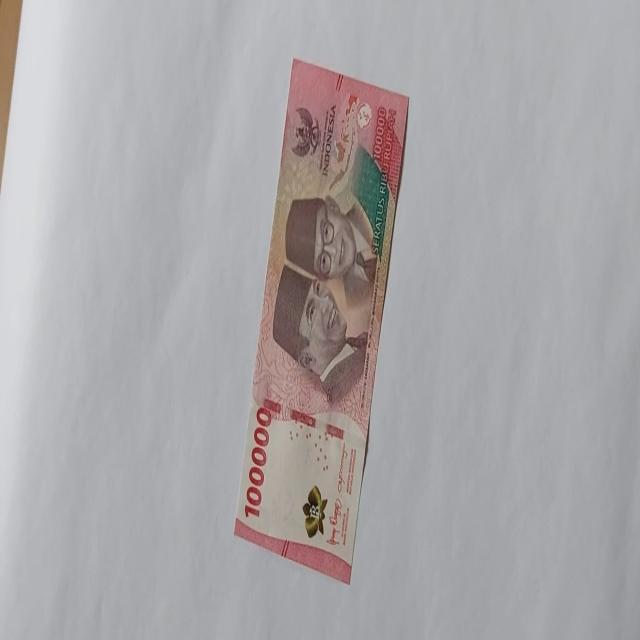seratus ribu rupiah: (233, 57, 410, 585), (271, 191, 377, 404)
